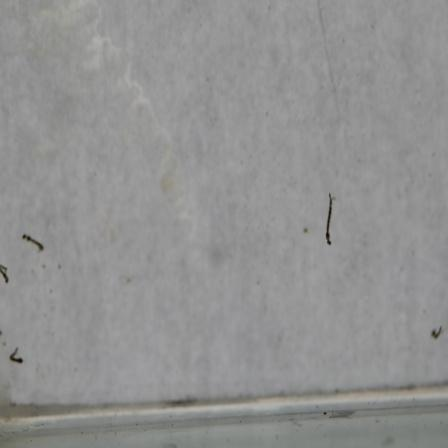Jentik-Nyamuk: (320, 188, 337, 252), (17, 231, 49, 256), (3, 344, 26, 368), (0, 254, 12, 287)
